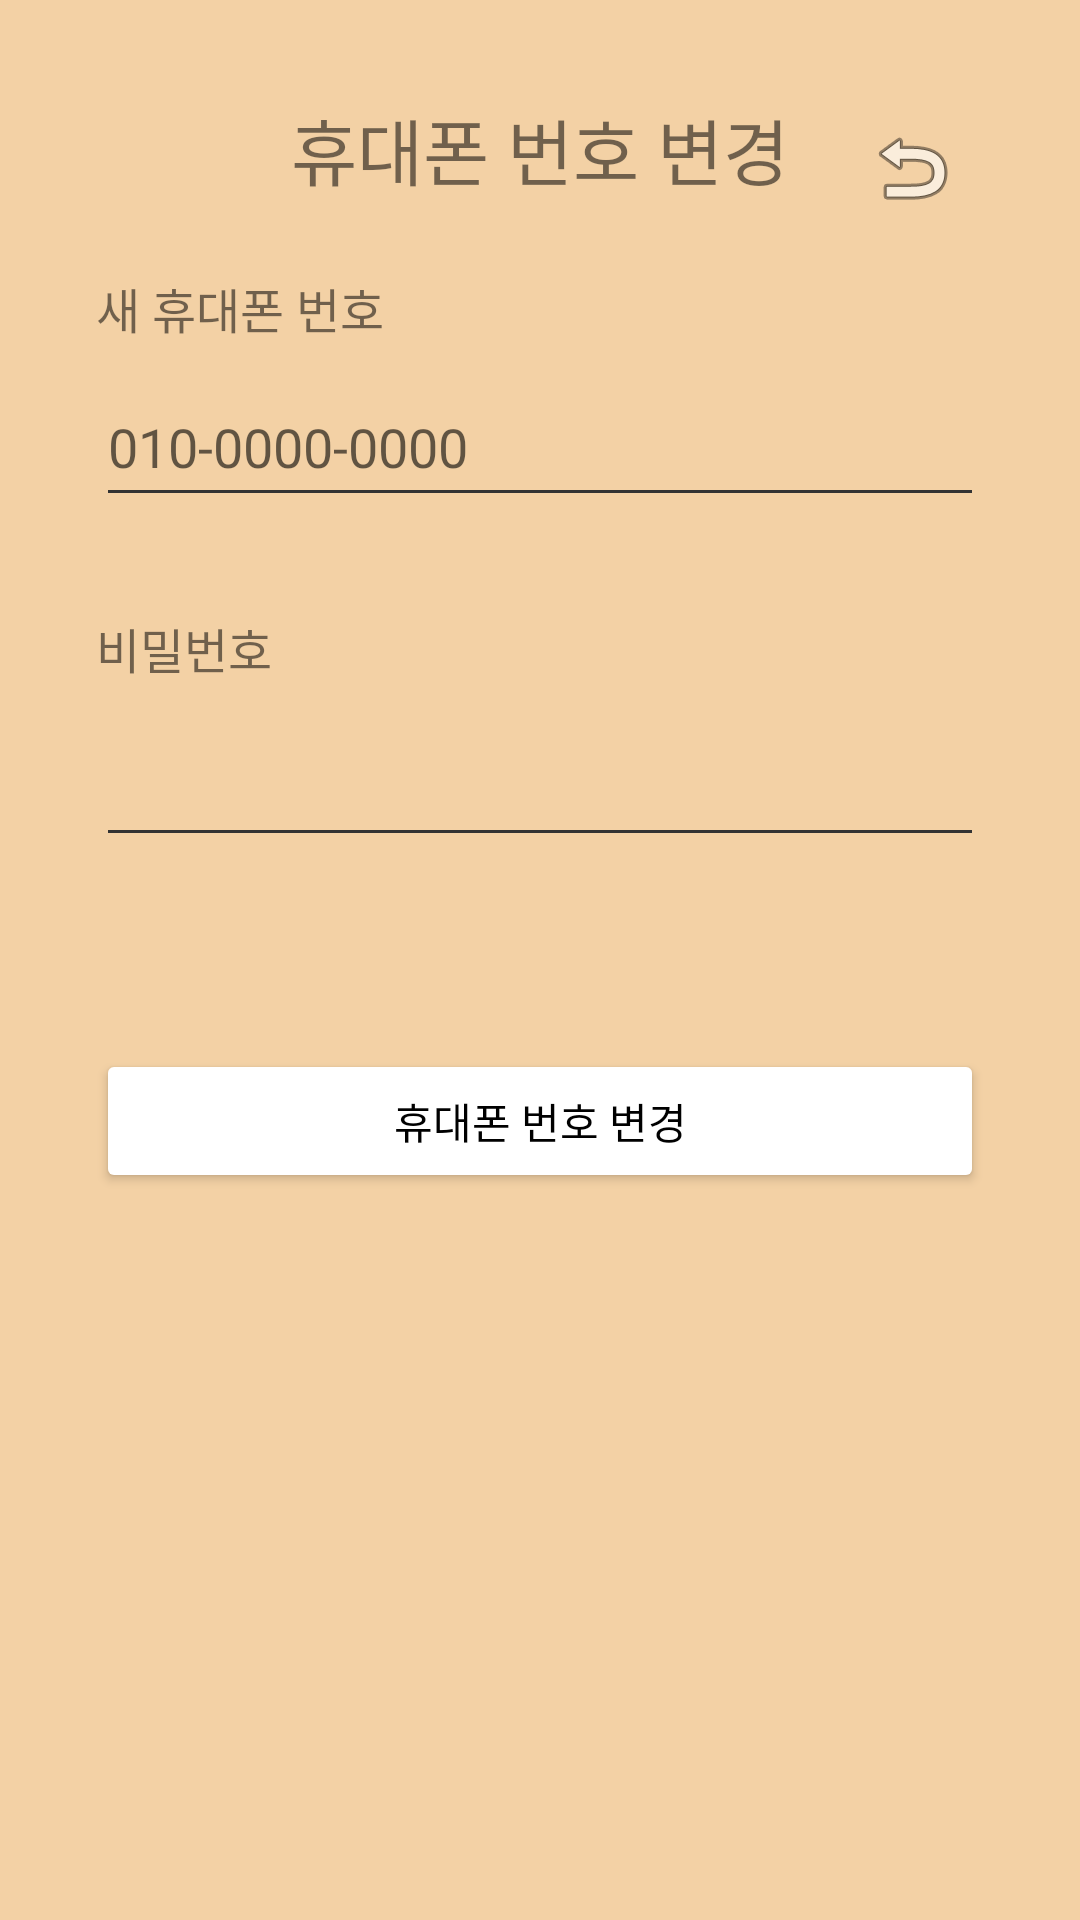

Icons on this 1080×1920 Android screen, each with its box as (x1, y1, x2, y2):
뒤로가기: (879, 137, 948, 200)
